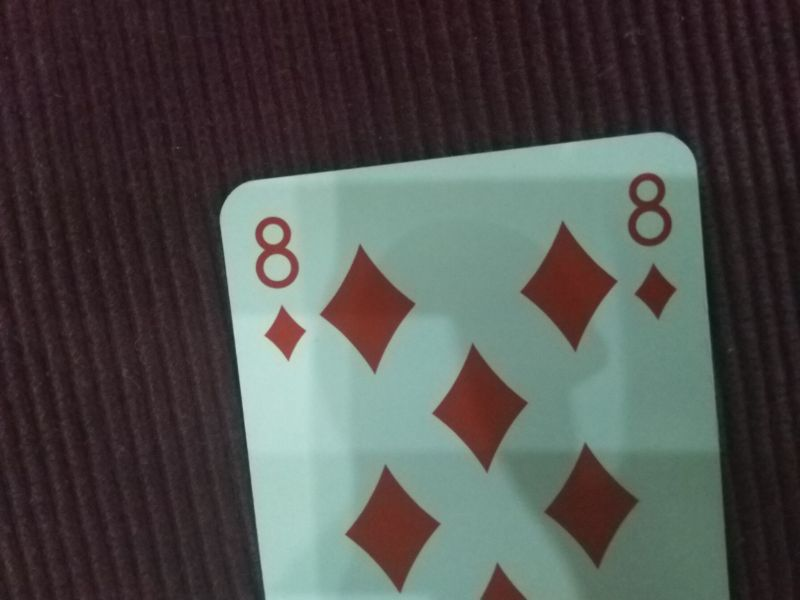8d: (615, 167, 690, 334), (249, 213, 314, 366)
